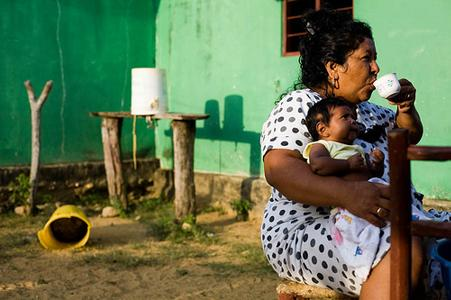person: (261, 6, 432, 300)
